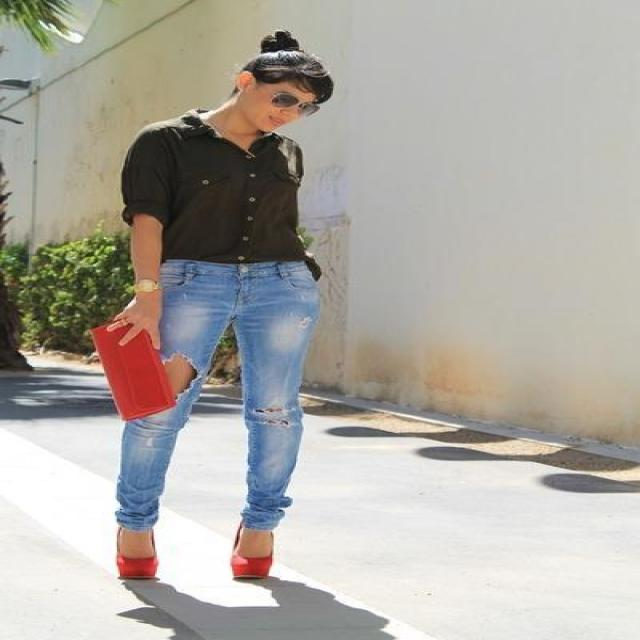bag: (96, 320, 176, 420)
pants: (115, 259, 322, 530)
shirt: (122, 108, 318, 268)
shoe: (117, 552, 270, 582)
sunglass: (270, 82, 318, 114)
